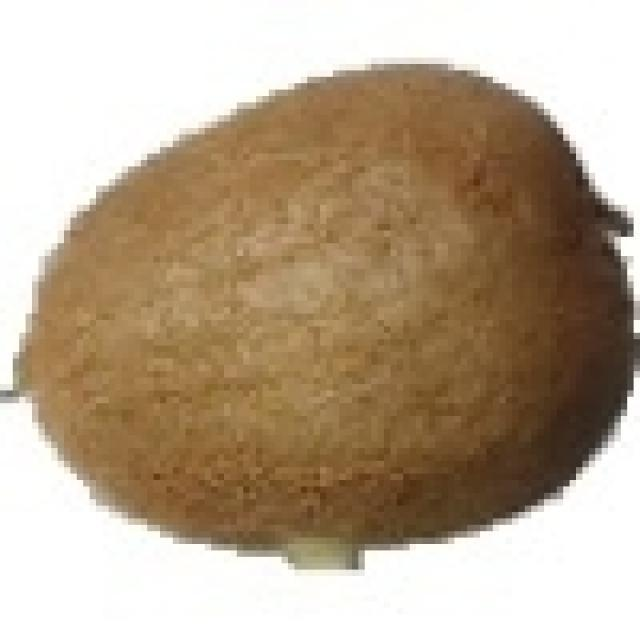kiwi: (13, 58, 621, 550)
